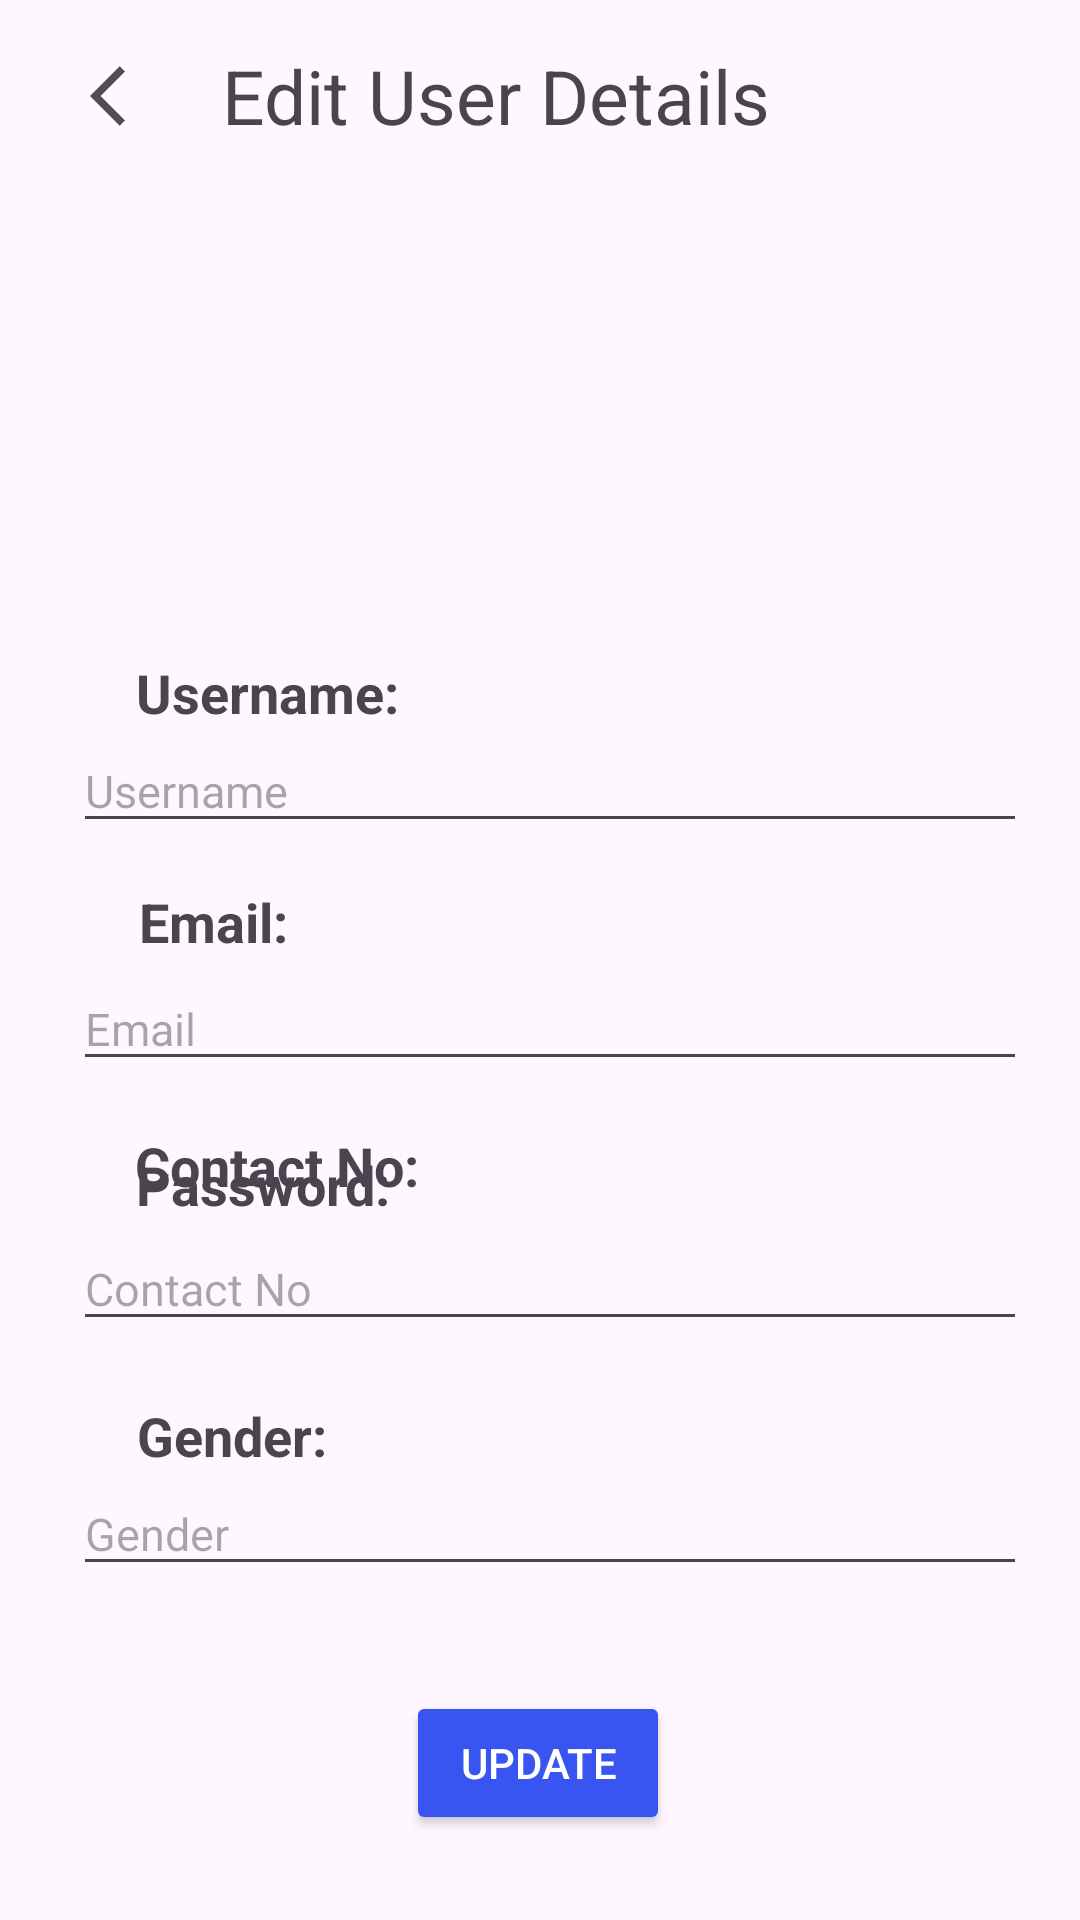

Where icons sit on this 1080*1920 app screen, as (x1,y1,x2,y2):
arrow back: (90,66,125,126)
